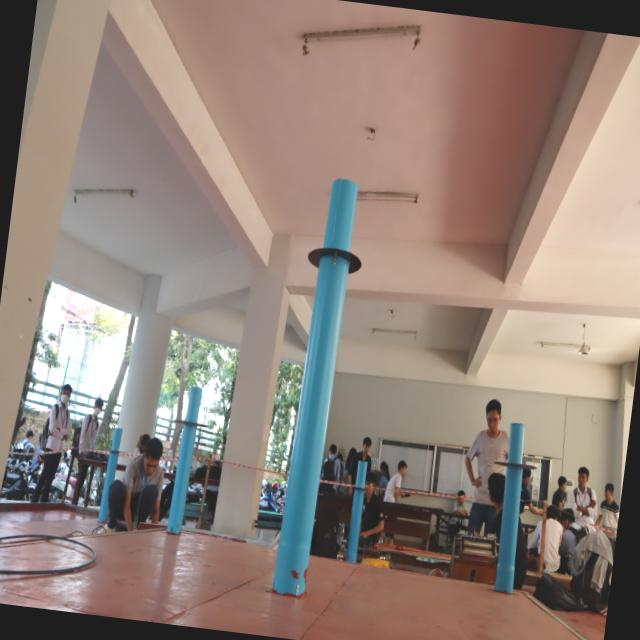pole: (296, 174, 376, 330), (489, 416, 534, 507), (169, 382, 212, 451), (347, 454, 374, 506), (100, 423, 130, 463)
